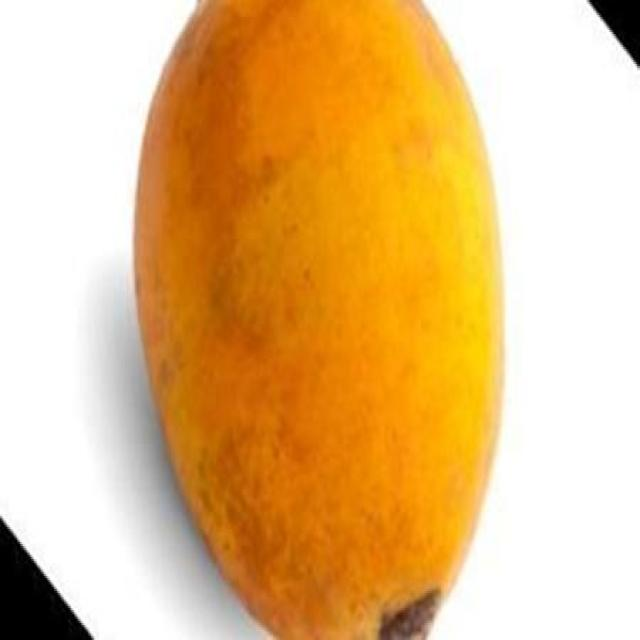good: (131, 0, 508, 638)
